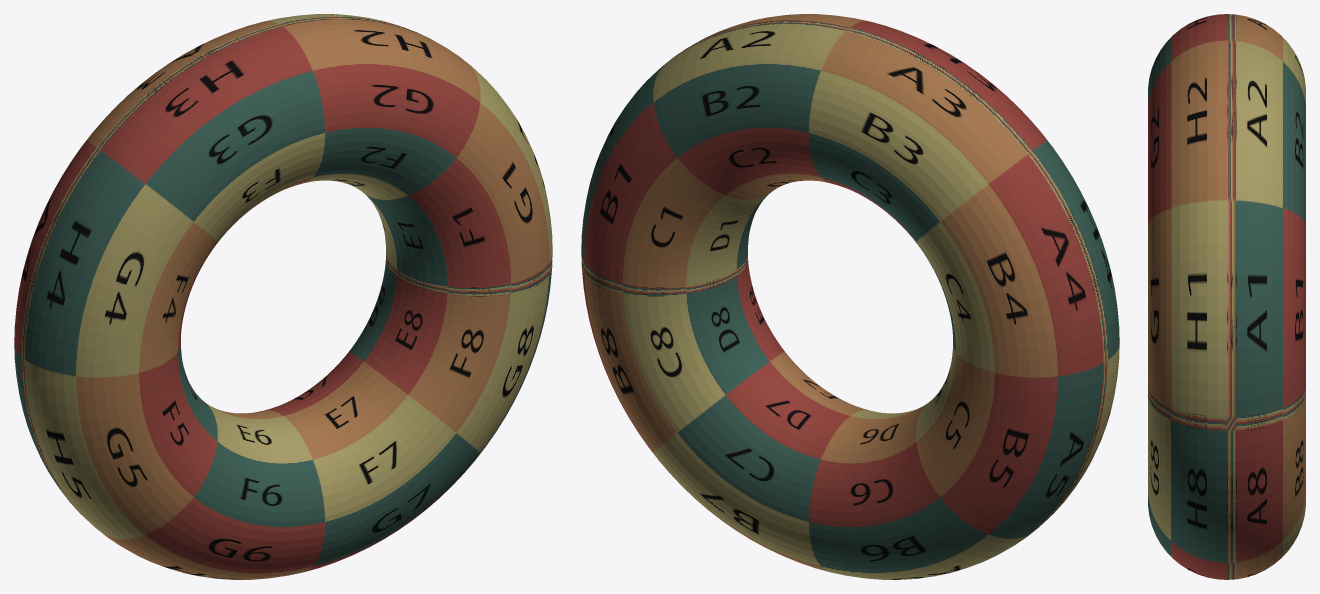
File: texture_torus_R4_r6.glb
3 renders of one model, left to right at view 1: azimuth 30°, elevation 25°; view 2: azimuth 150°, elevation 25°; view 3: azimuth 270°, elevation 25°, orthographic. The views are drawn at different scales.
Visible parts, largest first — view 1: world; view 2: world; view 3: world.
Boxes of the visible parts, x1,y1,x2,y2 form: world: (14, 14, 552, 579); world: (581, 14, 1119, 579); world: (1148, 14, 1305, 579).
Bounding box in the file's own units: 26.22 × 26.22 × 7.32.
Materials: 1 (1 with a texture image).
